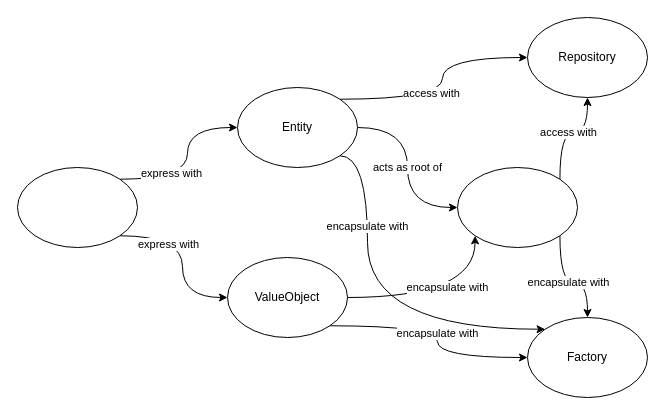
This 665x415 diagram has some shape labels left out. The shapes that lost their labels are listed below. From the top down, each one's centre as x and y in pixels, then its label:
At point 77,207: "Domain Model".
At point 517,207: "Aggregate".
